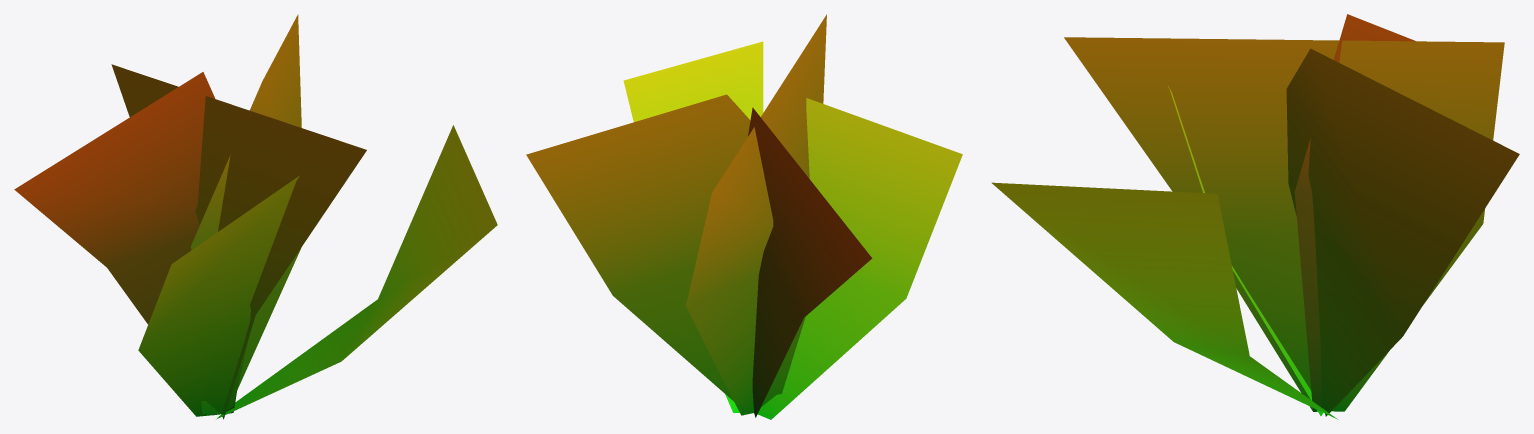
Rendered from Ocean Seaweed_LOD1_Var2_sdDkn.fbx.
3 views of the same model, side by side, from view 1: azimuth 30°, elevation 25°; view 2: azimuth 150°, elevation 25°; view 3: azimuth 270°, elevation 25° (orthographic). The views are drawn at different scales.
Parts seen in each view (by area): view 1: _6ad7_Var2_LOD1; view 2: _6ad7_Var2_LOD1; view 3: _6ad7_Var2_LOD1.
Part boxes in pixels (x1=…): _6ad7_Var2_LOD1: x1=14, y1=14, x2=497, y2=419; _6ad7_Var2_LOD1: x1=526, y1=14, x2=962, y2=419; _6ad7_Var2_LOD1: x1=991, y1=14, x2=1519, y2=419.
Size of the model in its own units: 34.75 by 31.98 by 38.72.
